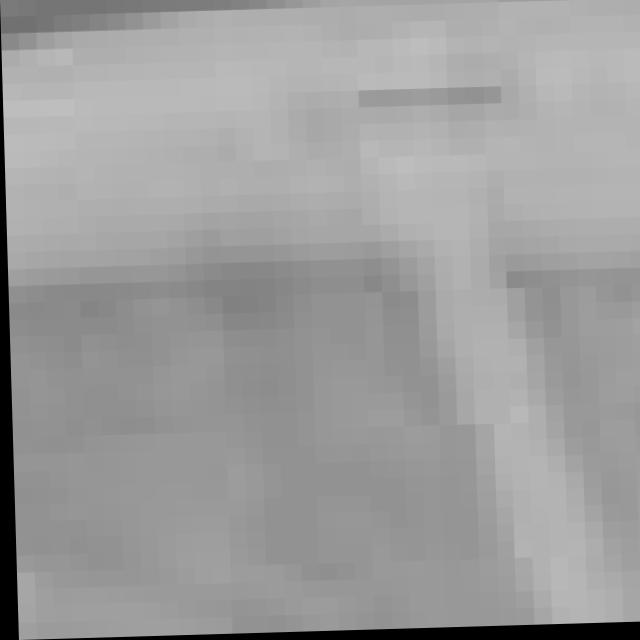fracture: (12, 0, 640, 639)
